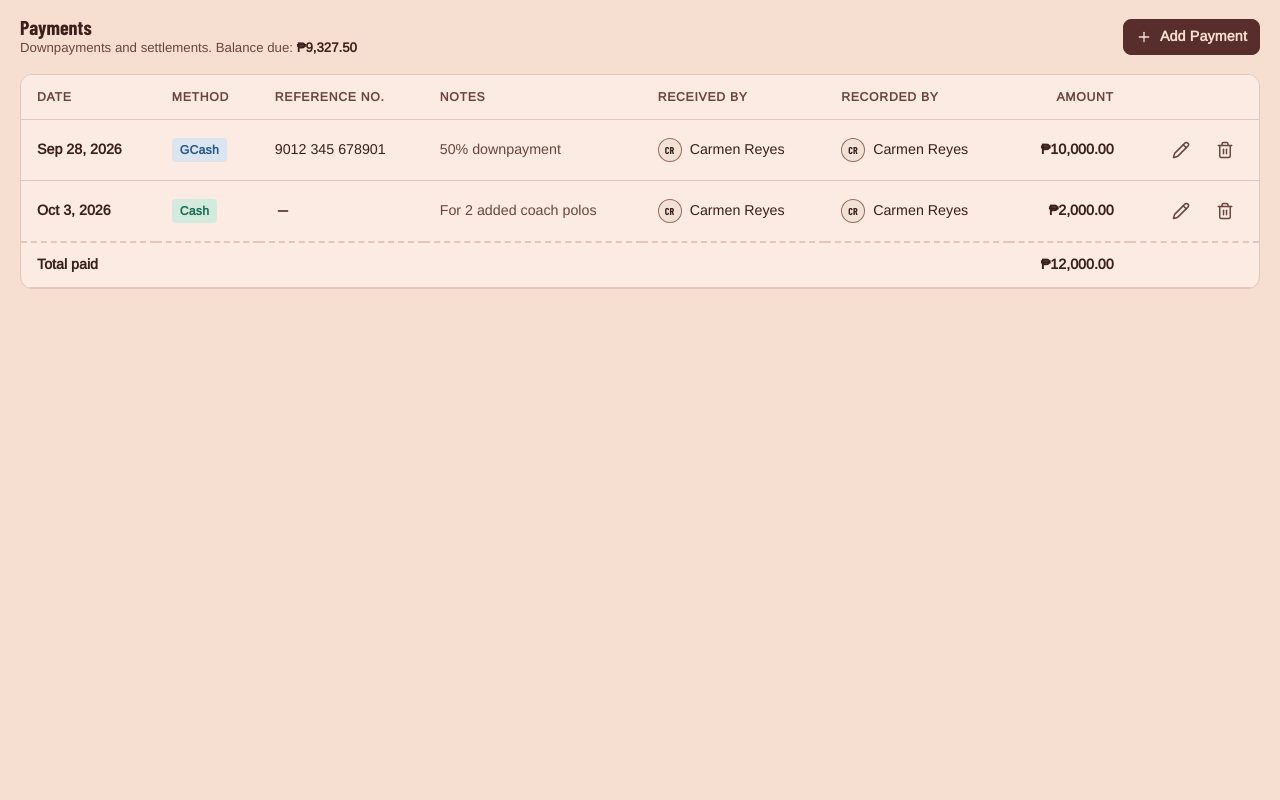
Test case: Add Payment › opens the Add Payment window from the button
Click the button "Add Payment".
click(1191, 37)  # box [1123,19,1260,55]
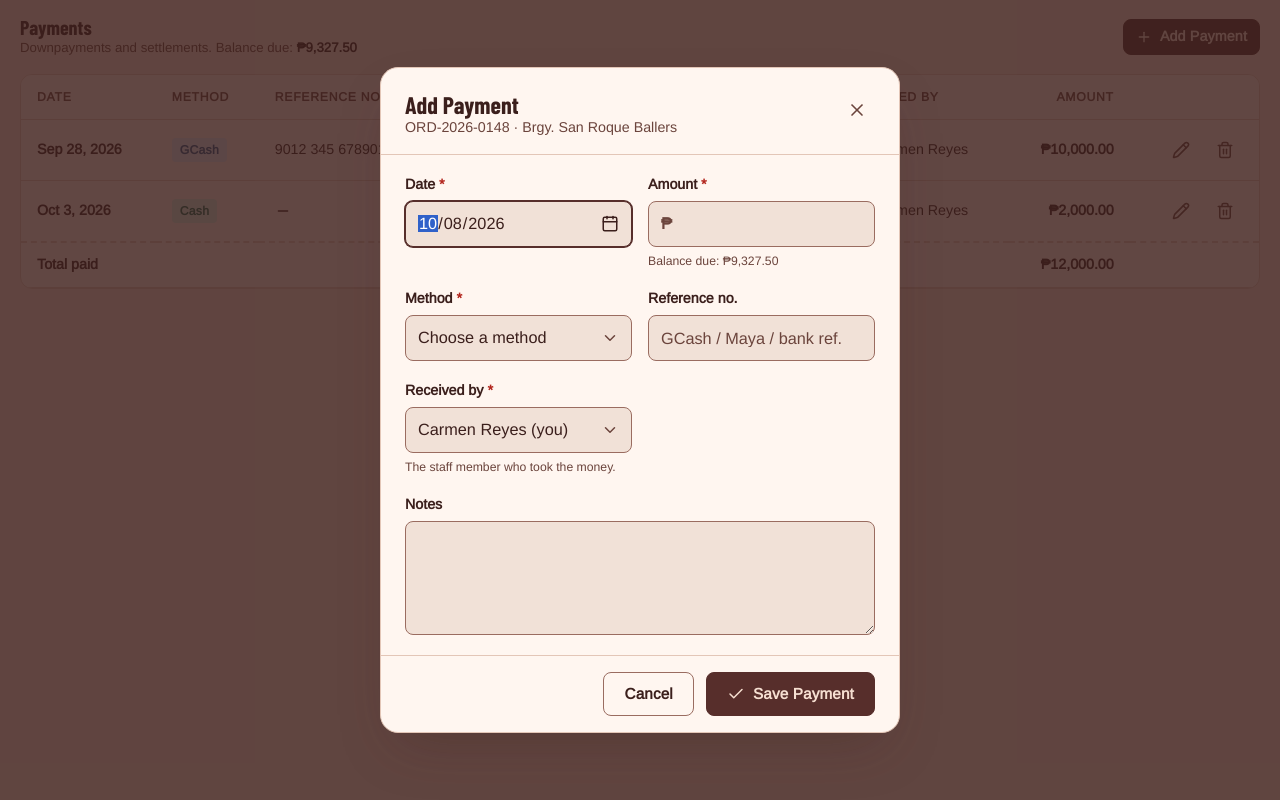
Expected: the dialog "Add Payment" is shown, [380,67,900,733]
